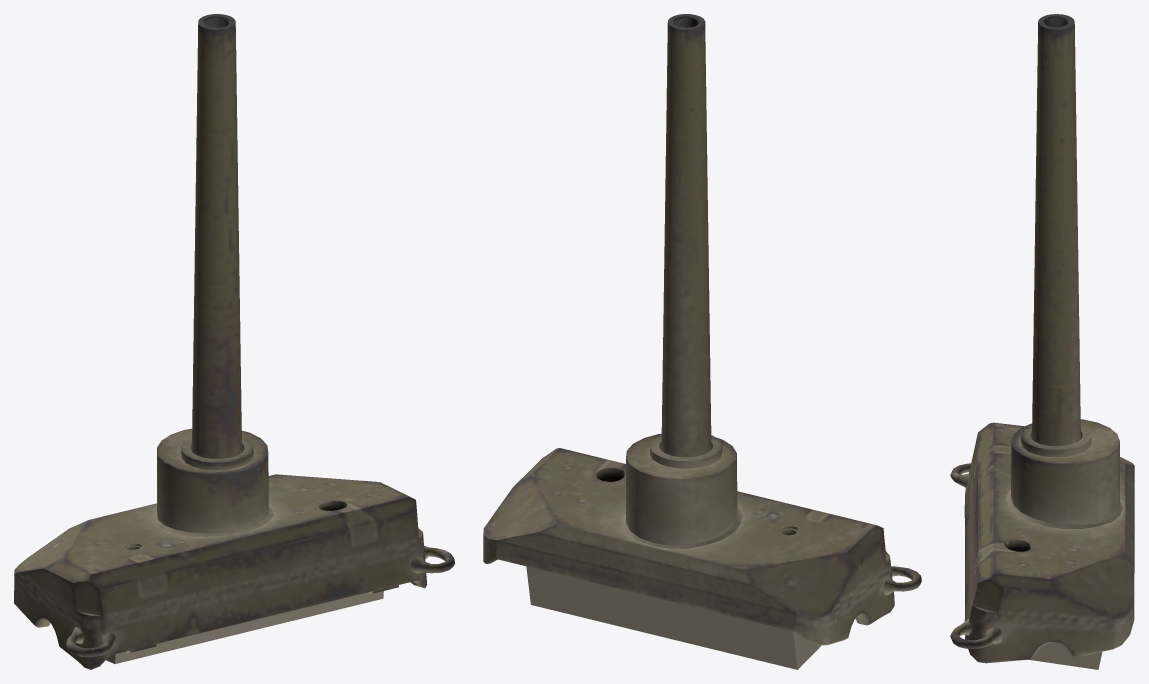
Rendered from Gun_01.glb.
3 views of the same model, side by side, from view 1: azimuth 30°, elevation 25°; view 2: azimuth 150°, elevation 25°; view 3: azimuth 270°, elevation 25° (orthographic). The views are drawn at different scales.
Parts seen in each view (by area): view 1: set_0_group_0; view 2: set_0_group_0; view 3: set_0_group_0.
Boxes of the visible parts, bbox=[...] form: set_0_group_0: bbox=[14, 14, 454, 669]; set_0_group_0: bbox=[483, 14, 921, 669]; set_0_group_0: bbox=[950, 14, 1134, 669].
Size of the model in its own units: 1.35 by 2.03 by 0.5794.
1 material, 1 textured.
